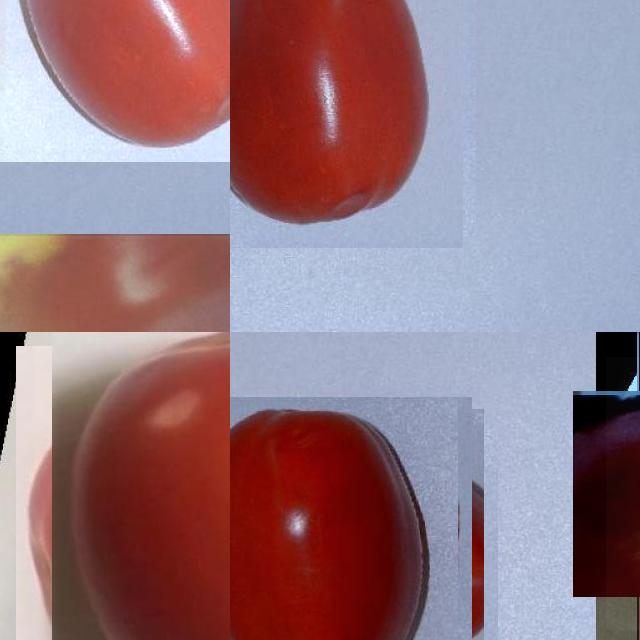Fresh Tomato: (33, 332, 230, 640), (230, 403, 478, 640), (230, 0, 469, 242), (0, 0, 230, 149)
Rotten Tomato: (0, 236, 230, 332)
